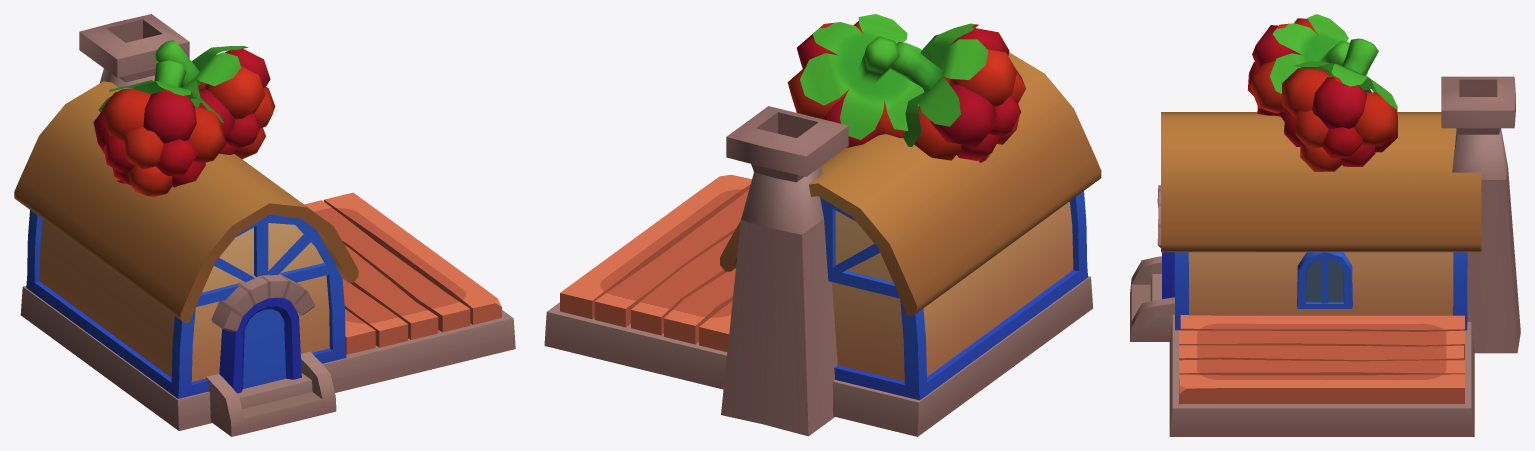
The model's file is StrawberryHouse11 (1).fbx.
3 views of the same model, side by side, from view 1: azimuth 30°, elevation 25°; view 2: azimuth 150°, elevation 25°; view 3: azimuth 270°, elevation 25° (orthographic). The views are drawn at different scales.
Visible parts, largest first — view 1: Cube.023, Cube.027, Cube.226, Sphere.001, Cube.229, Cube.227, Sphere.024, Cube.225; view 2: Cube.023, Cube.027, Cube.225, Cube.226, Sphere.001, Sphere.024, Cube.229; view 3: Cube.027, Cube.023, Cube.226, Cube.225, Sphere.024, Sphere.001, Cube.224, Cube.229, Cube.227.
Part boxes in pixels (x1,y1,x2,y2): Cube.023: (20, 180, 515, 436); Cube.027: (14, 81, 358, 323); Cube.226: (304, 192, 501, 354); Sphere.001: (93, 60, 226, 196); Cube.229: (26, 210, 346, 398); Cube.227: (211, 273, 315, 393); Sphere.024: (154, 40, 275, 159); Cube.225: (79, 14, 189, 89); Cube.023: (544, 154, 1093, 436); Cube.027: (720, 52, 1101, 316); Cube.225: (721, 106, 848, 436); Cube.226: (560, 174, 751, 351); Sphere.001: (889, 23, 1025, 160); Sphere.024: (787, 14, 924, 147); Cube.229: (820, 191, 1087, 400); Cube.027: (1161, 112, 1481, 252); Cube.023: (1130, 252, 1474, 436); Cube.226: (1179, 315, 1464, 404); Cube.225: (1441, 76, 1520, 353); Sphere.024: (1282, 38, 1397, 171); Sphere.001: (1248, 14, 1367, 121); Cube.224: (1297, 252, 1352, 308); Cube.229: (1174, 252, 1467, 330); Cube.227: (1157, 185, 1174, 298).
Bounding box in the file's own units: 1.61 × 1.34 × 1.67.
